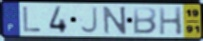4: (48, 5, 69, 35)
B: (132, 7, 158, 36)
H: (158, 6, 184, 37)
J: (79, 6, 100, 35)
L: (22, 6, 43, 33)
N: (102, 6, 129, 35)
